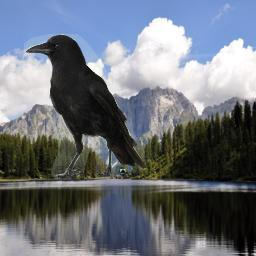Crow: (24, 34, 147, 180)
